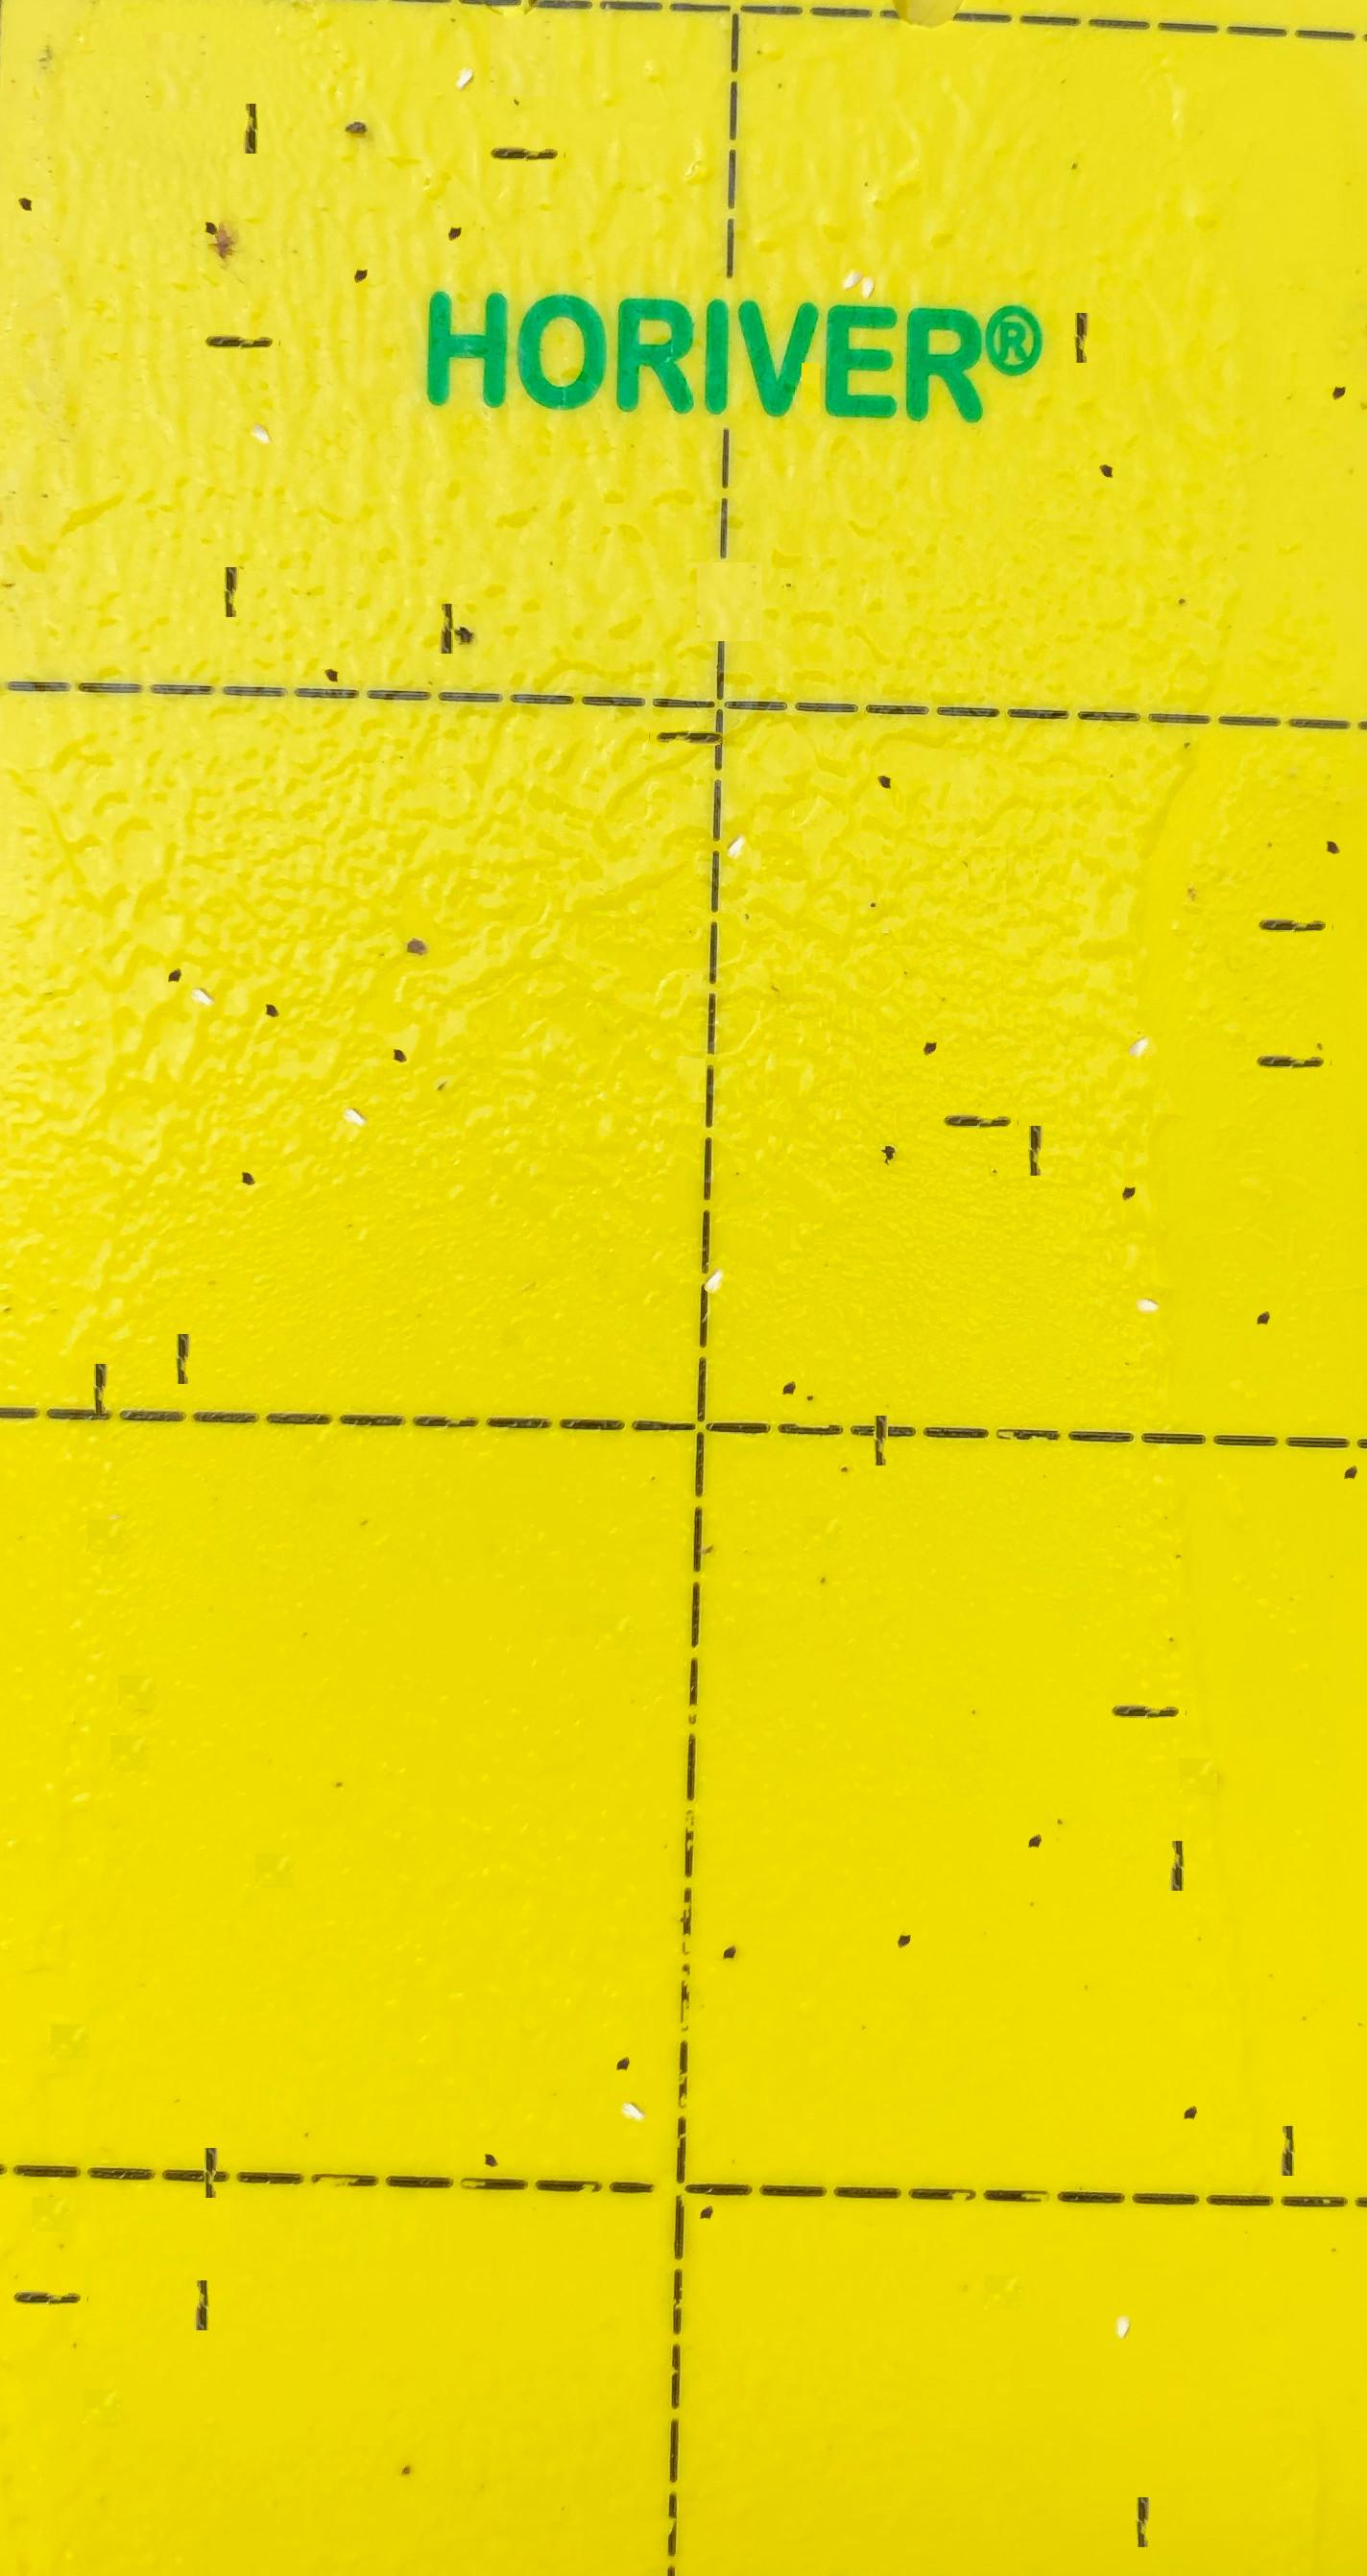white_fly: (179, 930, 222, 976), (441, 9, 484, 53), (331, 1051, 373, 1095), (695, 1216, 738, 1261), (239, 368, 281, 412), (610, 2044, 651, 2090), (718, 782, 758, 828), (832, 215, 874, 257), (1118, 983, 1159, 1027), (849, 230, 890, 267), (1105, 2269, 1145, 2307), (1127, 1247, 1168, 1285)
